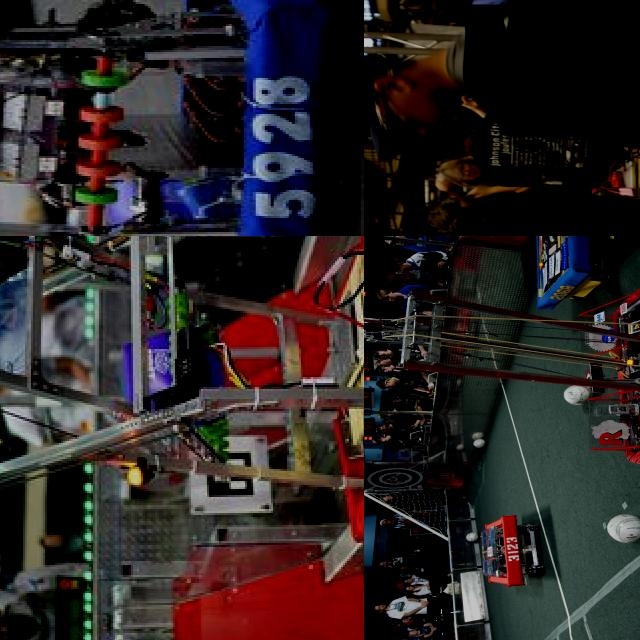FRC-Robots: (0, 236, 364, 619), (0, 0, 349, 236), (364, 250, 640, 464), (364, 137, 640, 236), (469, 511, 555, 596), (508, 236, 616, 303)
